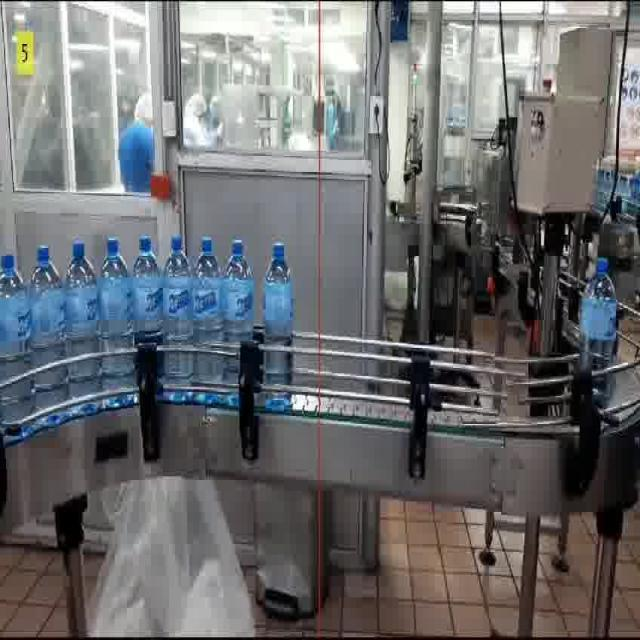bottle: (26, 243, 67, 408), (577, 255, 619, 403), (61, 237, 100, 386), (0, 252, 32, 427), (96, 235, 134, 382), (220, 237, 256, 382), (160, 232, 194, 382), (260, 239, 295, 382), (191, 234, 224, 384), (130, 233, 164, 348)
